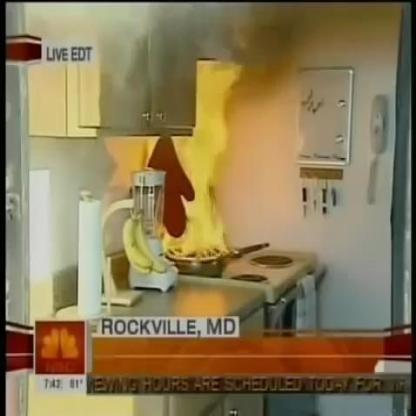fire: (154, 62, 239, 262)
